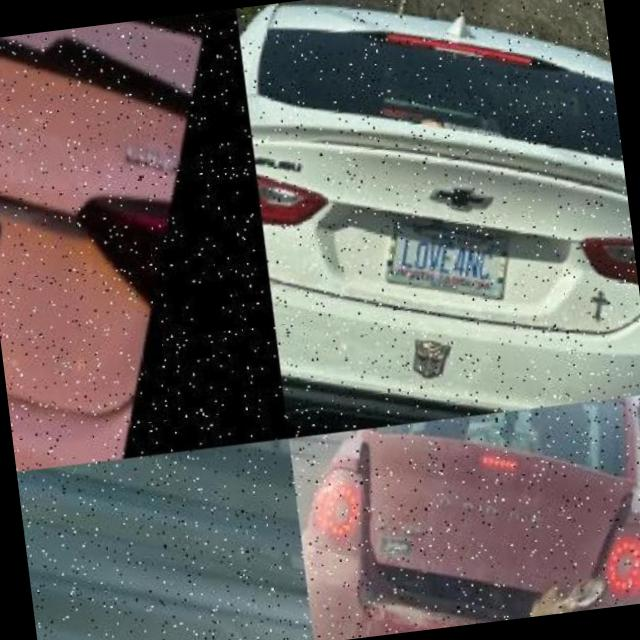LicensePlate: (0, 158, 74, 328), (130, 441, 274, 521), (387, 214, 514, 293)
